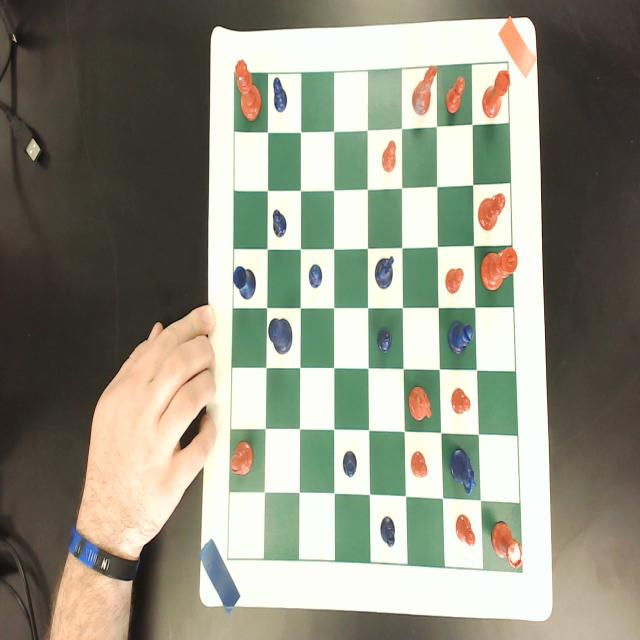B: (448, 319, 474, 357)
K: (269, 317, 293, 355)
N: (448, 443, 477, 498), (374, 253, 396, 291)
P: (272, 76, 288, 113), (380, 514, 396, 548), (342, 450, 358, 478), (272, 208, 287, 237), (377, 325, 392, 354), (308, 263, 323, 288)
R: (232, 266, 257, 300)
b: (478, 192, 506, 231), (229, 440, 255, 480)
k: (480, 246, 517, 292)
n: (412, 66, 438, 118), (408, 385, 432, 423)
p: (446, 75, 466, 115), (454, 512, 476, 548), (451, 387, 471, 416), (411, 449, 428, 482), (445, 267, 464, 294), (381, 140, 397, 172)
q: (235, 59, 261, 122)
r: (491, 520, 523, 570), (482, 69, 511, 120)
